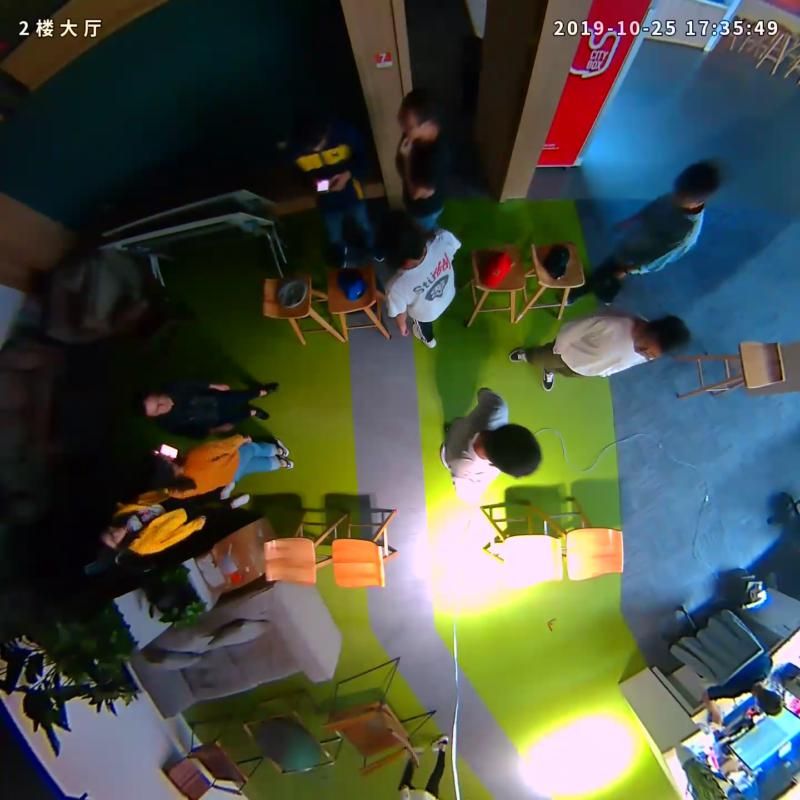head: (481, 419, 547, 483), (627, 310, 693, 365), (667, 156, 725, 211), (120, 449, 186, 496), (374, 217, 432, 268), (391, 86, 442, 141), (280, 107, 334, 155), (119, 383, 177, 426), (82, 518, 131, 563)
